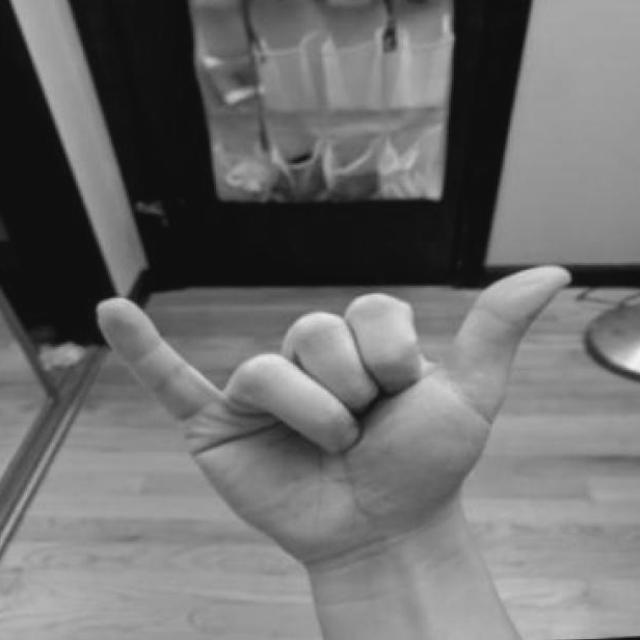Y: (87, 249, 603, 563)
